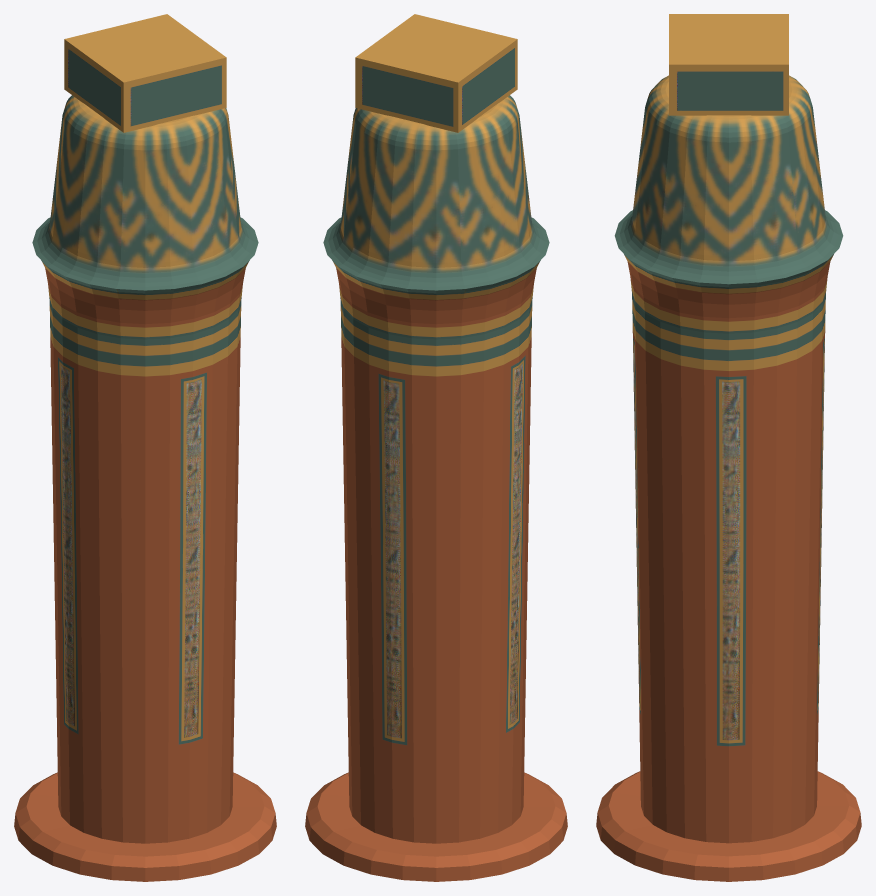
The model's file is egypt_07a.fbx.
3 views of the same model, side by side, from view 1: azimuth 30°, elevation 25°; view 2: azimuth 150°, elevation 25°; view 3: azimuth 270°, elevation 25° (orthographic).
Visible parts, largest first — view 1: Egypt07a COL, Egypt07a CAP, Egypt07a ABA; view 2: Egypt07a COL, Egypt07a CAP, Egypt07a ABA; view 3: Egypt07a COL, Egypt07a CAP, Egypt07a ABA.
Part boxes in pixels (x1=…): Egypt07a COL: x1=14, y1=260, x2=276, y2=881; Egypt07a CAP: x1=32, y1=95, x2=258, y2=290; Egypt07a ABA: x1=64, y1=14, x2=226, y2=132; Egypt07a COL: x1=305, y1=260, x2=567, y2=881; Egypt07a CAP: x1=323, y1=95, x2=549, y2=290; Egypt07a ABA: x1=355, y1=14, x2=517, y2=132; Egypt07a COL: x1=596, y1=254, x2=861, y2=881; Egypt07a CAP: x1=614, y1=75, x2=843, y2=283; Egypt07a ABA: x1=669, y1=14, x2=788, y2=115.
Bounding box in the file's own units: 2.46 × 8.06 × 2.46.
